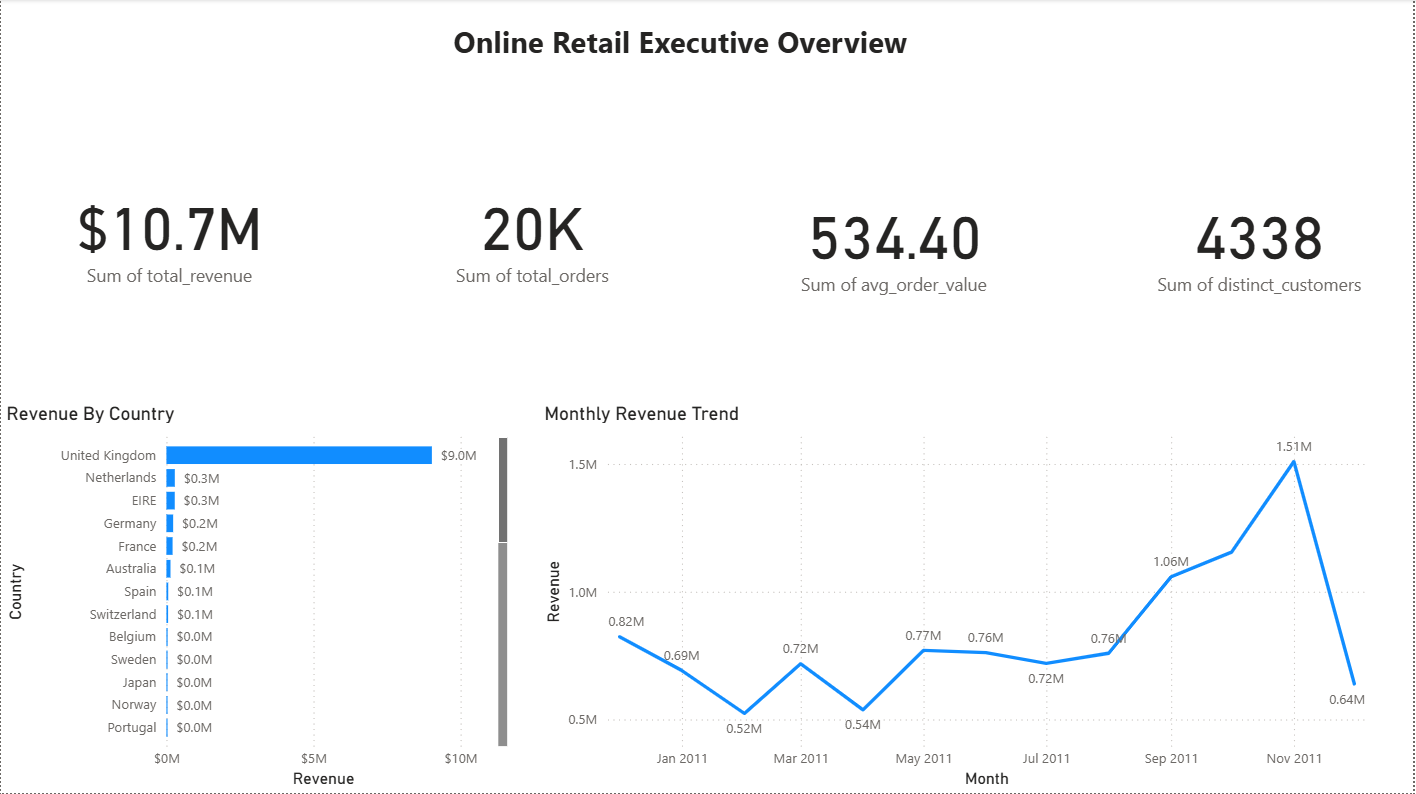

This screenshot's page, from the dashboard's own definition file:
{"tool":"powerbi","page":{"name":"Executive Overview","canvas":[1280,720],"ordinal":0},"visuals":[{"type":"card","fields":{"Values":["Sum(public v_kpi_overview.total_revenue)"]},"box":[13.6,72,278.2,280.1],"z":0},{"type":"card","fields":{"Values":["Sum(public v_kpi_overview.total_orders)"]},"box":[342.4,72,278.2,280.1],"z":1000},{"type":"card","fields":{"Values":["Sum(public v_kpi_overview.avg_order_value)"]},"box":[671.1,79.8,277.2,280.1],"z":2000},{"type":"card","fields":{"Values":["Sum(public v_kpi_overview.distinct_customers)"]},"box":[1001.8,79.8,278.2,280.1],"z":3000},{"type":"lineChart","title":"Monthly Revenue Trend","fields":{"Category":["public v_monthly_revenue.month"],"Y":["Sum(public v_monthly_revenue.revenue)"]},"box":[488.3,365.7,770.3,354],"z":4000},{"type":"clusteredBarChart","title":"Revenue By Country","fields":{"Category":["public v_country_revenue.country"],"Y":["Sum(public v_country_revenue.revenue)"]},"box":[0,365.7,464,354],"z":5000},{"type":"textbox","box":[405.1,15.6,469.8,45.7],"z":6000}]}

Visuals, with their boxes in screenshot pixels (x1, y1, x2, y2), scaled from the page's 1280x720 canvas onto the 1416x794 screenshot:
card - Sum(public v_kpi_overview.total_revenue): 15 79 323 388
card - Sum(public v_kpi_overview.total_orders): 379 79 687 388
card - Sum(public v_kpi_overview.avg_order_value): 742 88 1049 397
card - Sum(public v_kpi_overview.distinct_customers): 1108 88 1415 397
"Monthly Revenue Trend" lineChart: 540 403 1392 793
"Revenue By Country" clusteredBarChart: 0 403 513 793
textbox: 448 17 968 68
